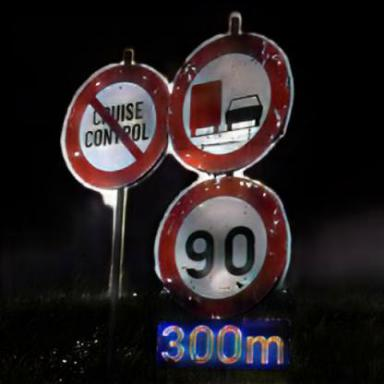Speed_limit_90: (156, 176, 288, 305)
